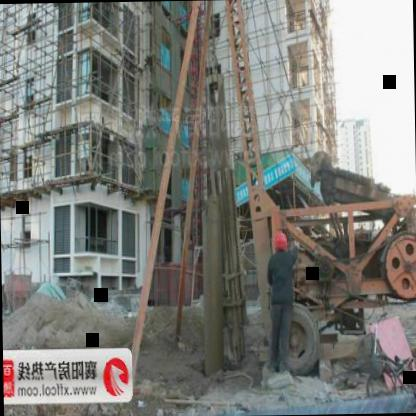helmet: (272, 230, 289, 254)
